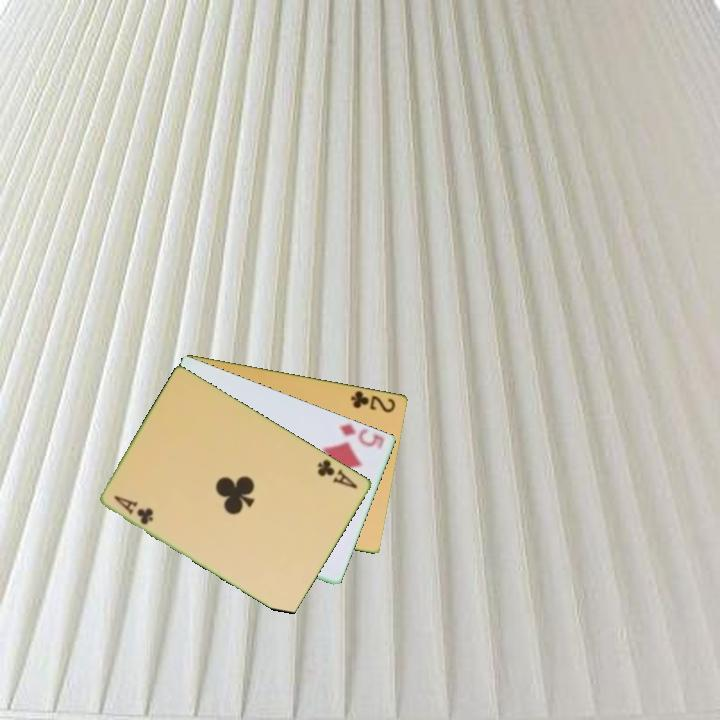2c: (347, 387, 399, 415)
5d: (335, 419, 387, 449)
Ac: (314, 456, 361, 492), (110, 492, 157, 528)
